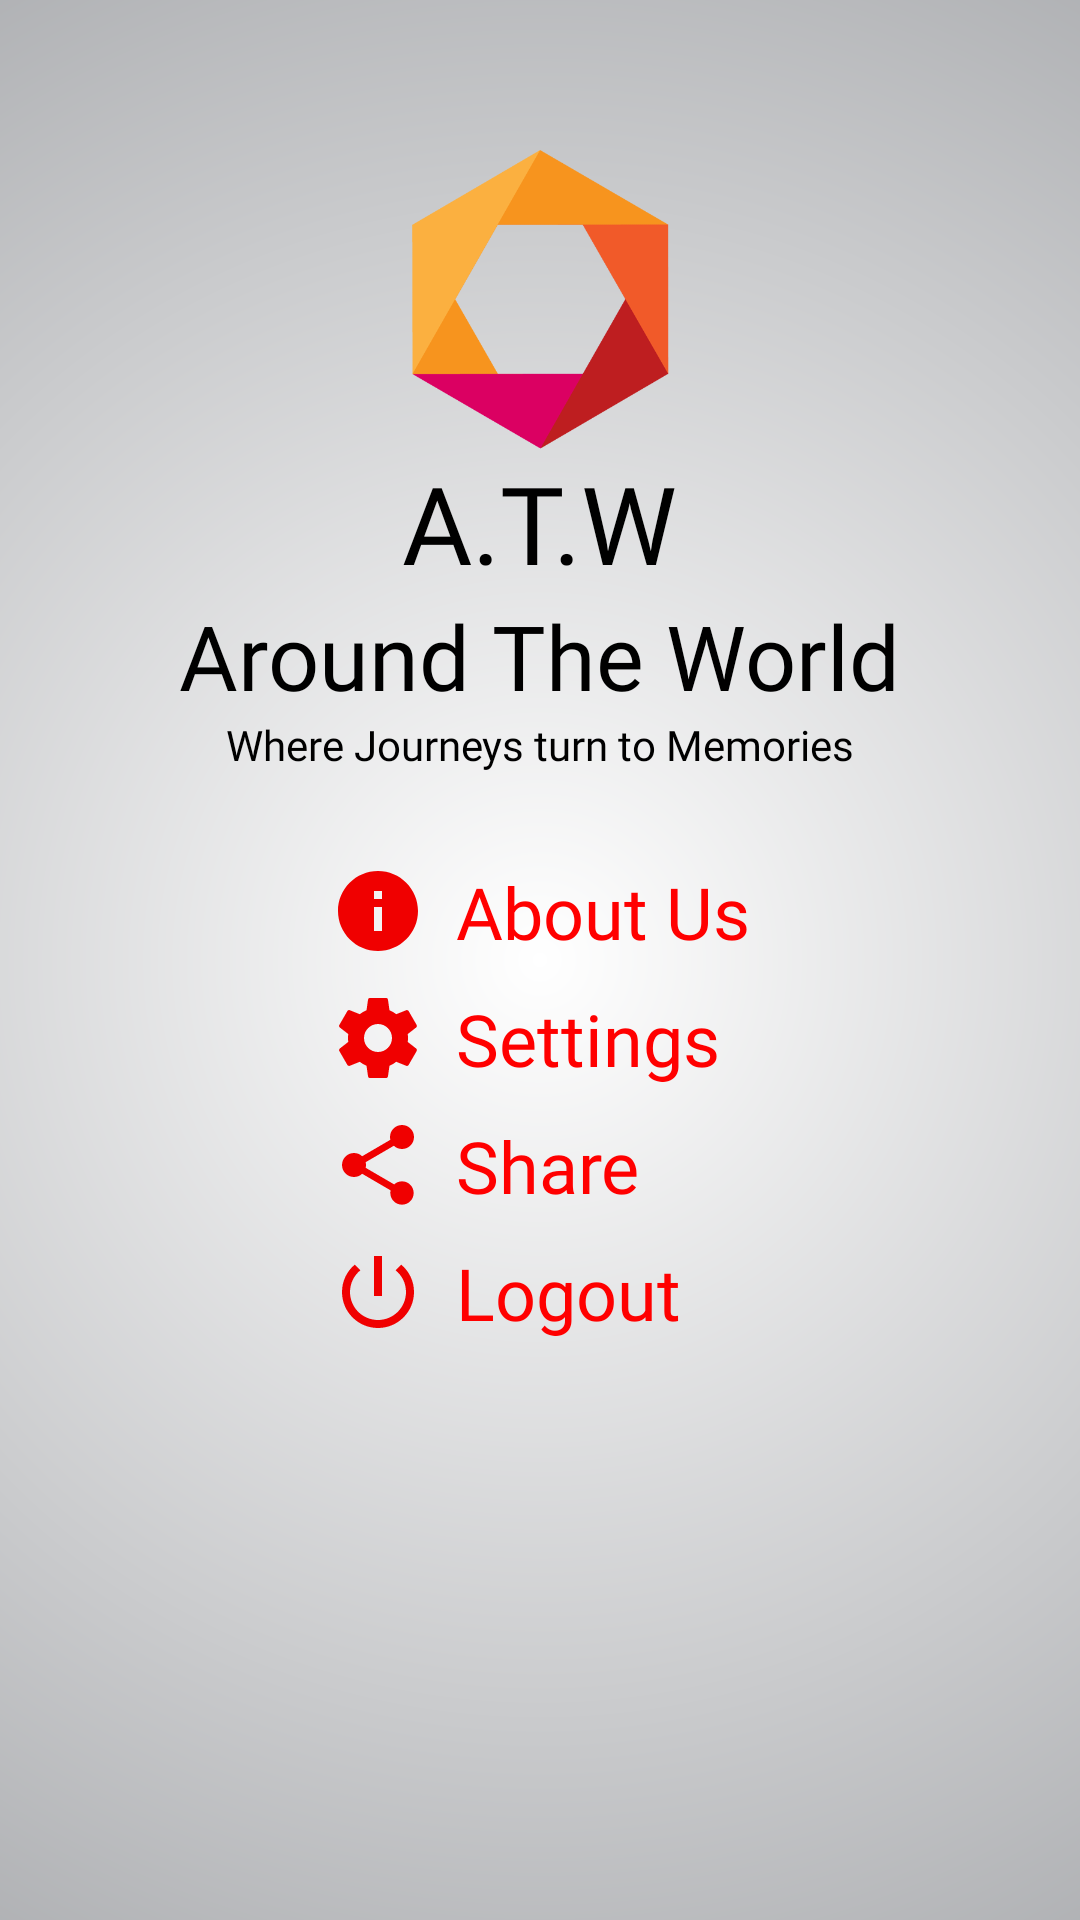

Icons on this 1080*1920 Android screen, each with the point to tap as point (x, y):
info: point (378, 911)
